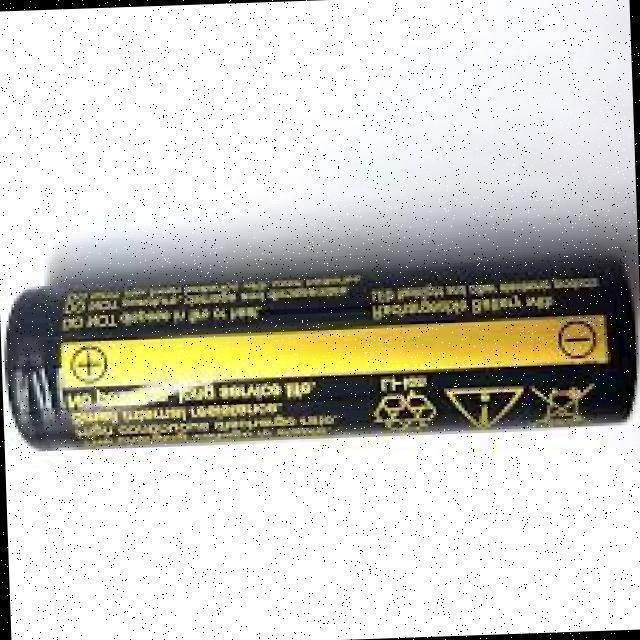AA: (3, 252, 639, 452)
